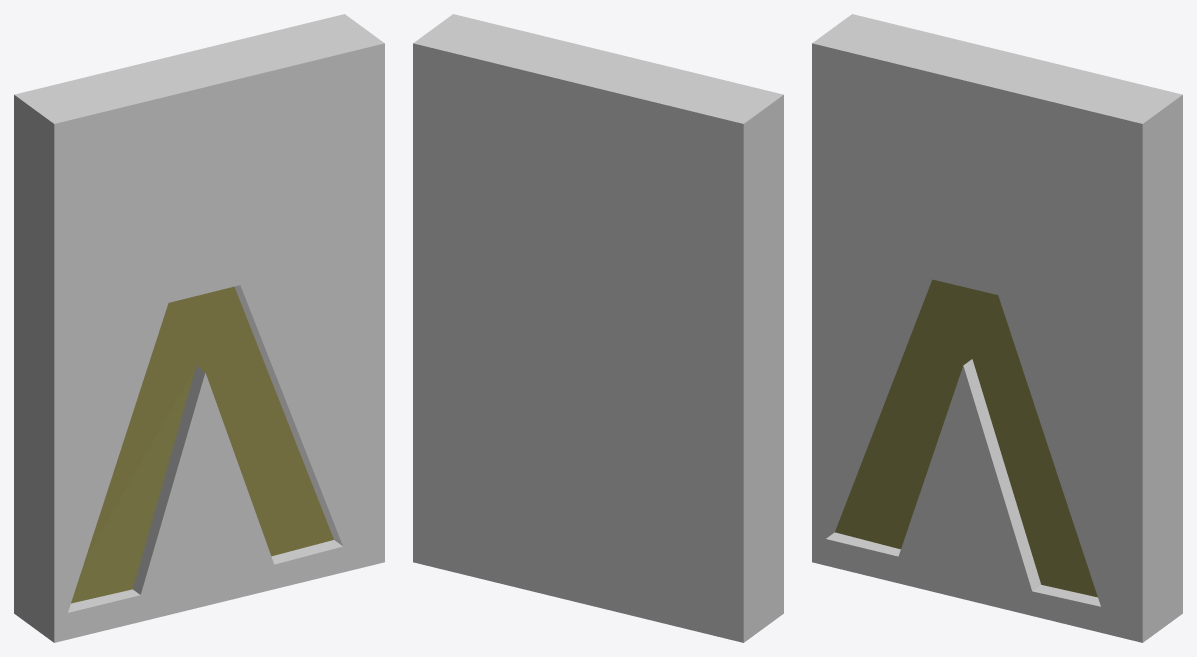
The model's file is plitkaL.fbx.
The picture shows the model from 3 angles, left to right: view 1: azimuth 30°, elevation 25°; view 2: azimuth 150°, elevation 25°; view 3: azimuth 330°, elevation 25°; orthographic projection.
Visible parts, largest first — view 1: Cube.042; view 2: Cube.042; view 3: Cube.042.
Part boxes in pixels (<box>): Cube.042: <box>14,14,384,642</box>; Cube.042: <box>413,14,783,642</box>; Cube.042: <box>812,14,1182,642</box>.
Size of the model in its own units: 23.8 by 35.7 by 5.
